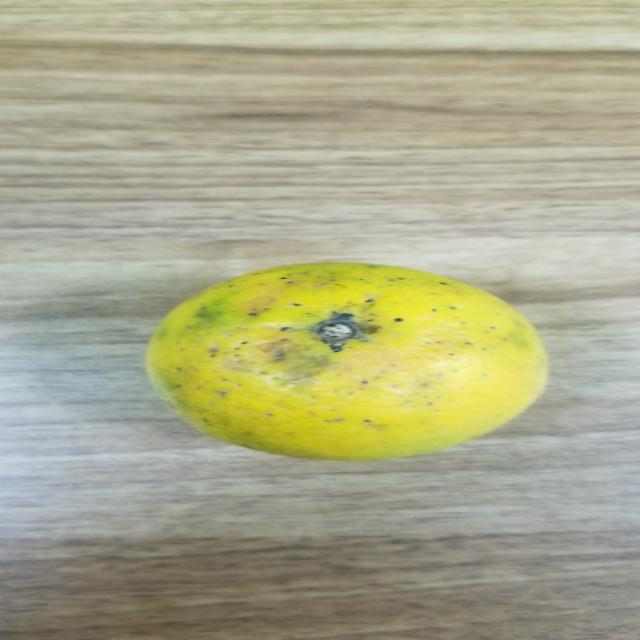Ripe orange: (140, 255, 562, 478)
